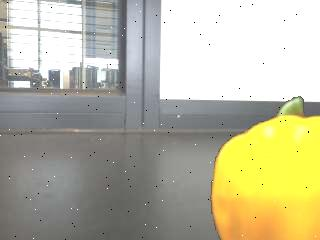Capsicum: (209, 93, 320, 240)
